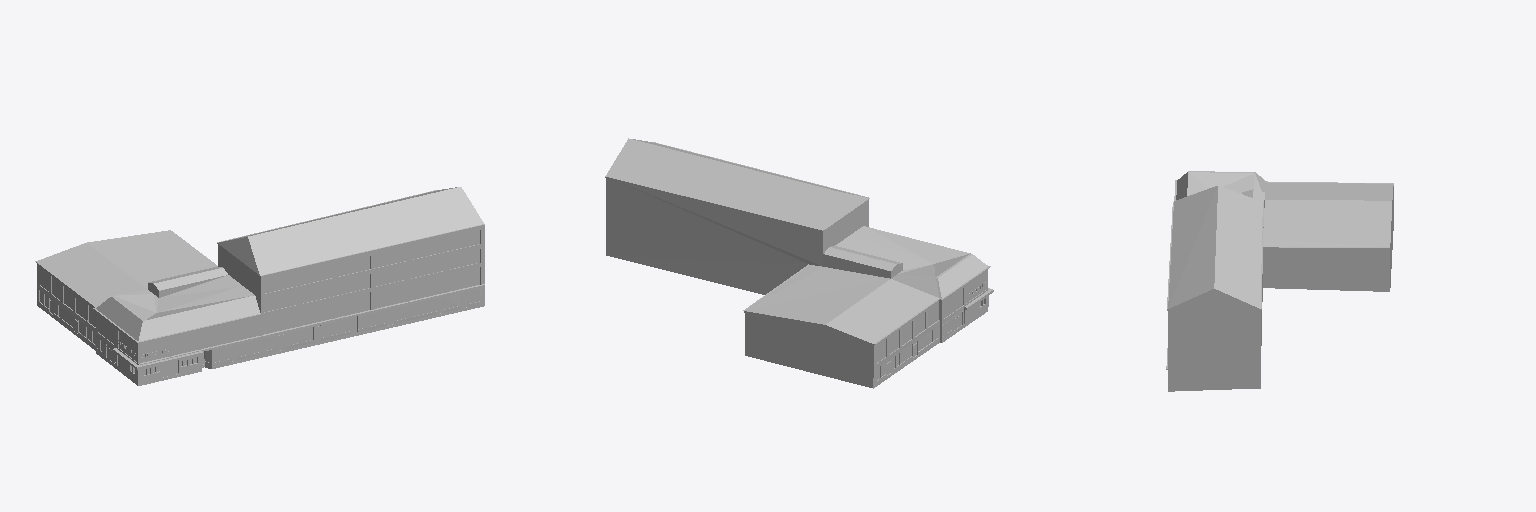
File: MastersceneTrees_NoCityhall_NoSkydome_90degree_pieces_kortteli_4.obj
3 renders of one model, left to right at view 1: azimuth 30°, elevation 25°; view 2: azimuth 150°, elevation 25°; view 3: azimuth 270°, elevation 25°, orthographic.
Parts seen in each view (by area): view 1: kauppurienkatu9; view 2: kauppurienkatu9; view 3: kauppurienkatu9.
Part boxes in pixels (x1,y1,x2,y2): kauppurienkatu9: (35,187,484,385); kauppurienkatu9: (605,138,993,388); kauppurienkatu9: (1166,171,1393,391).
Bounding box in the file's own units: 52.48 × 14.97 × 29.94.